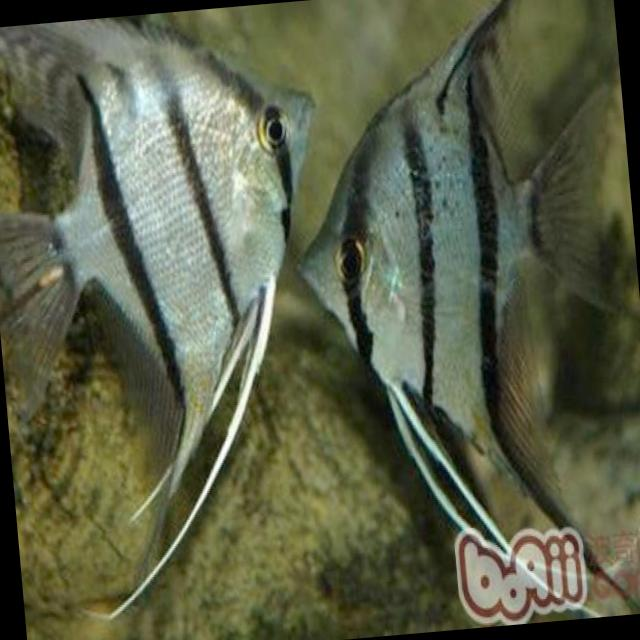AngelFish: (0, 2, 361, 636), (273, 0, 640, 619)
